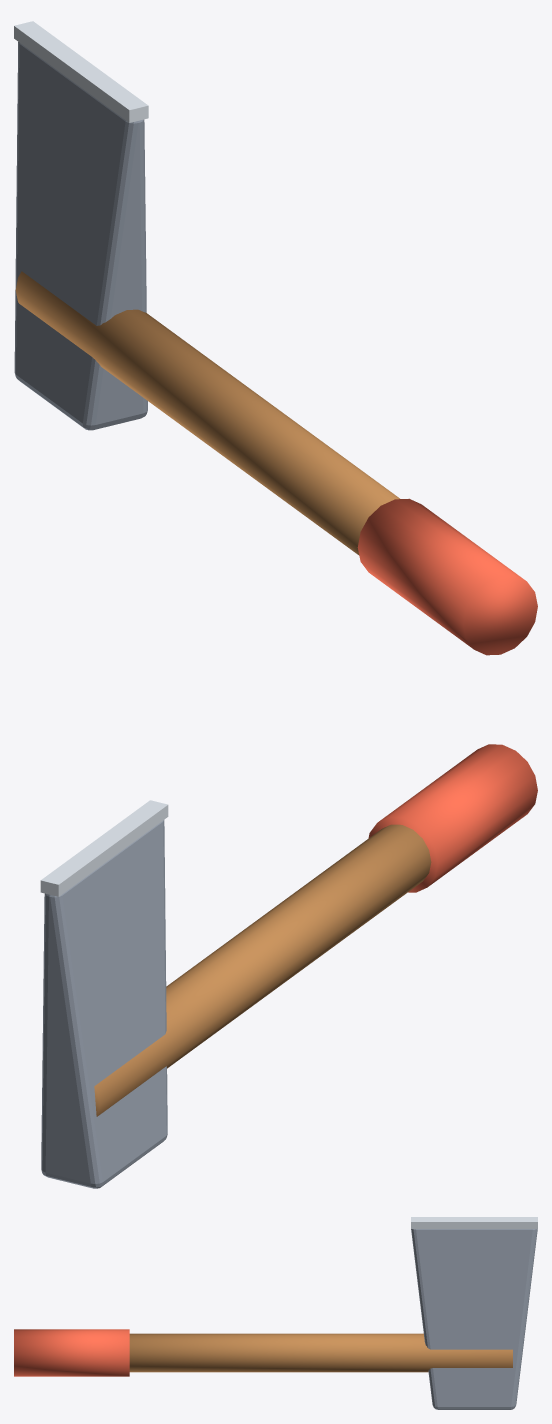
The model's file is axe.glb.
3 renders of one model, top to bottom at view 1: azimuth 30°, elevation 25°; view 2: azimuth 150°, elevation 25°; view 3: azimuth 270°, elevation 25°, orthographic. The views are drawn at different scales.
Parts seen in each view (by area): view 1: Axe; view 2: Axe; view 3: Axe.
Boxes of the visible parts, bbox=[...] form: Axe: bbox=[14, 21, 537, 655]; Axe: bbox=[40, 744, 537, 1188]; Axe: bbox=[14, 1217, 537, 1409].
Bounding box in the file's own units: 0.0861 × 0.367 × 0.9503.
